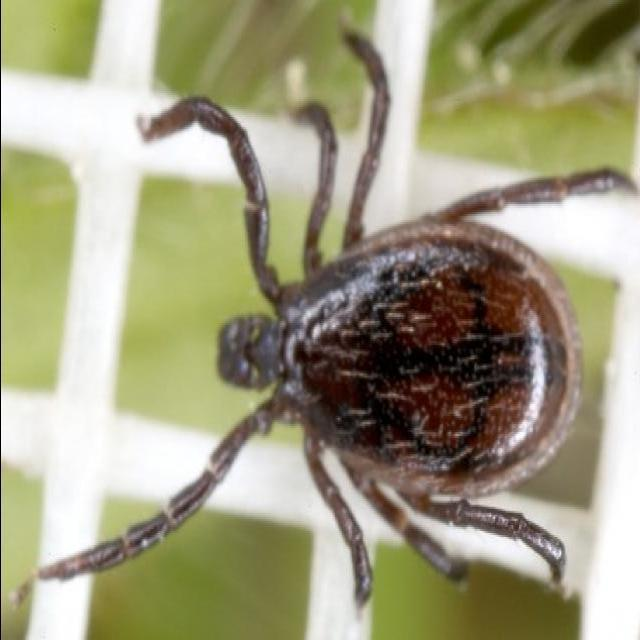Ixodes Ricinus-M: (32, 32, 640, 614)
